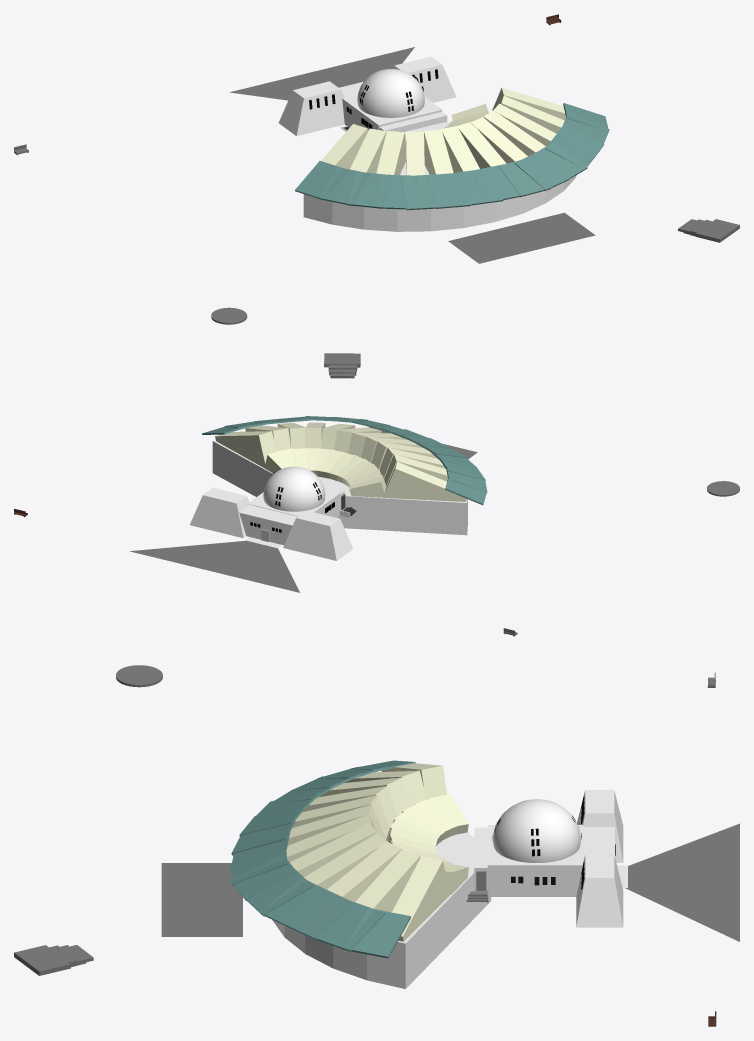
The model's file is asmundarsafn_cpy_to_test_20.obj.
The picture shows the model from 3 angles, top to bottom: view 1: azimuth 30°, elevation 25°; view 2: azimuth 150°, elevation 25°; view 3: azimuth 270°, elevation 25°; orthographic projection. The views are drawn at different scales.
Visible parts, largest first — view 1: Cube.047, Cube.033, syningarsalur, Plane.035, pavement, Sphere, h_hlid, v_hlid, innanhus, Cube, Cube.019, Cylinder; view 2: Cube.033, syningarsalur, pavement, Cube.047, h_hlid, Sphere, v_hlid, adaldyr, Cube, innanhus; view 3: Cube.033, Cube.047, pavement, syningarsalur, Plane.035, Sphere, innanhus, v_hlid, h_hlid, Cube, adaldyr, Cylinder (+1 smaller).
Part boxes in pixels (x1,y1,x2,y2): Cube.047: (295,103,609,210); Cube.033: (321,87,565,175); syningarsalur: (303,122,576,231); Plane.035: (448,212,595,263); pavement: (229,47,414,100); Sphere: (357,69,424,117); h_hlid: (278,81,344,136); v_hlid: (393,56,456,102); innanhus: (342,94,442,130); Cube: (678,219,739,242); Cube.019: (379,112,447,131); Cylinder: (211,307,247,324); Cube.033: (215,422,466,501); syningarsalur: (212,440,467,535); pavement: (130,540,299,592); Cube.047: (202,416,487,505); h_hlid: (283,510,353,560); Sphere: (263,466,325,511); v_hlid: (190,487,250,538); adaldyr: (239,505,297,545); Cube: (324,353,360,378); innanhus: (250,489,340,517); Cube.033: (286,763,468,941); Cube.047: (230,760,415,958); pavement: (625,823,739,941); syningarsalur: (272,831,491,988); Plane.035: (161,863,242,936); Sphere: (493,799,580,862); innanhus: (487,825,584,896); v_hlid: (576,854,623,927); h_hlid: (577,790,623,862); Cube: (14,945,93,975); adaldyr: (584,827,614,856); Cylinder: (116,665,162,687).
Bounding box in the file's own units: 72.47 × 9.13 × 61.73.
